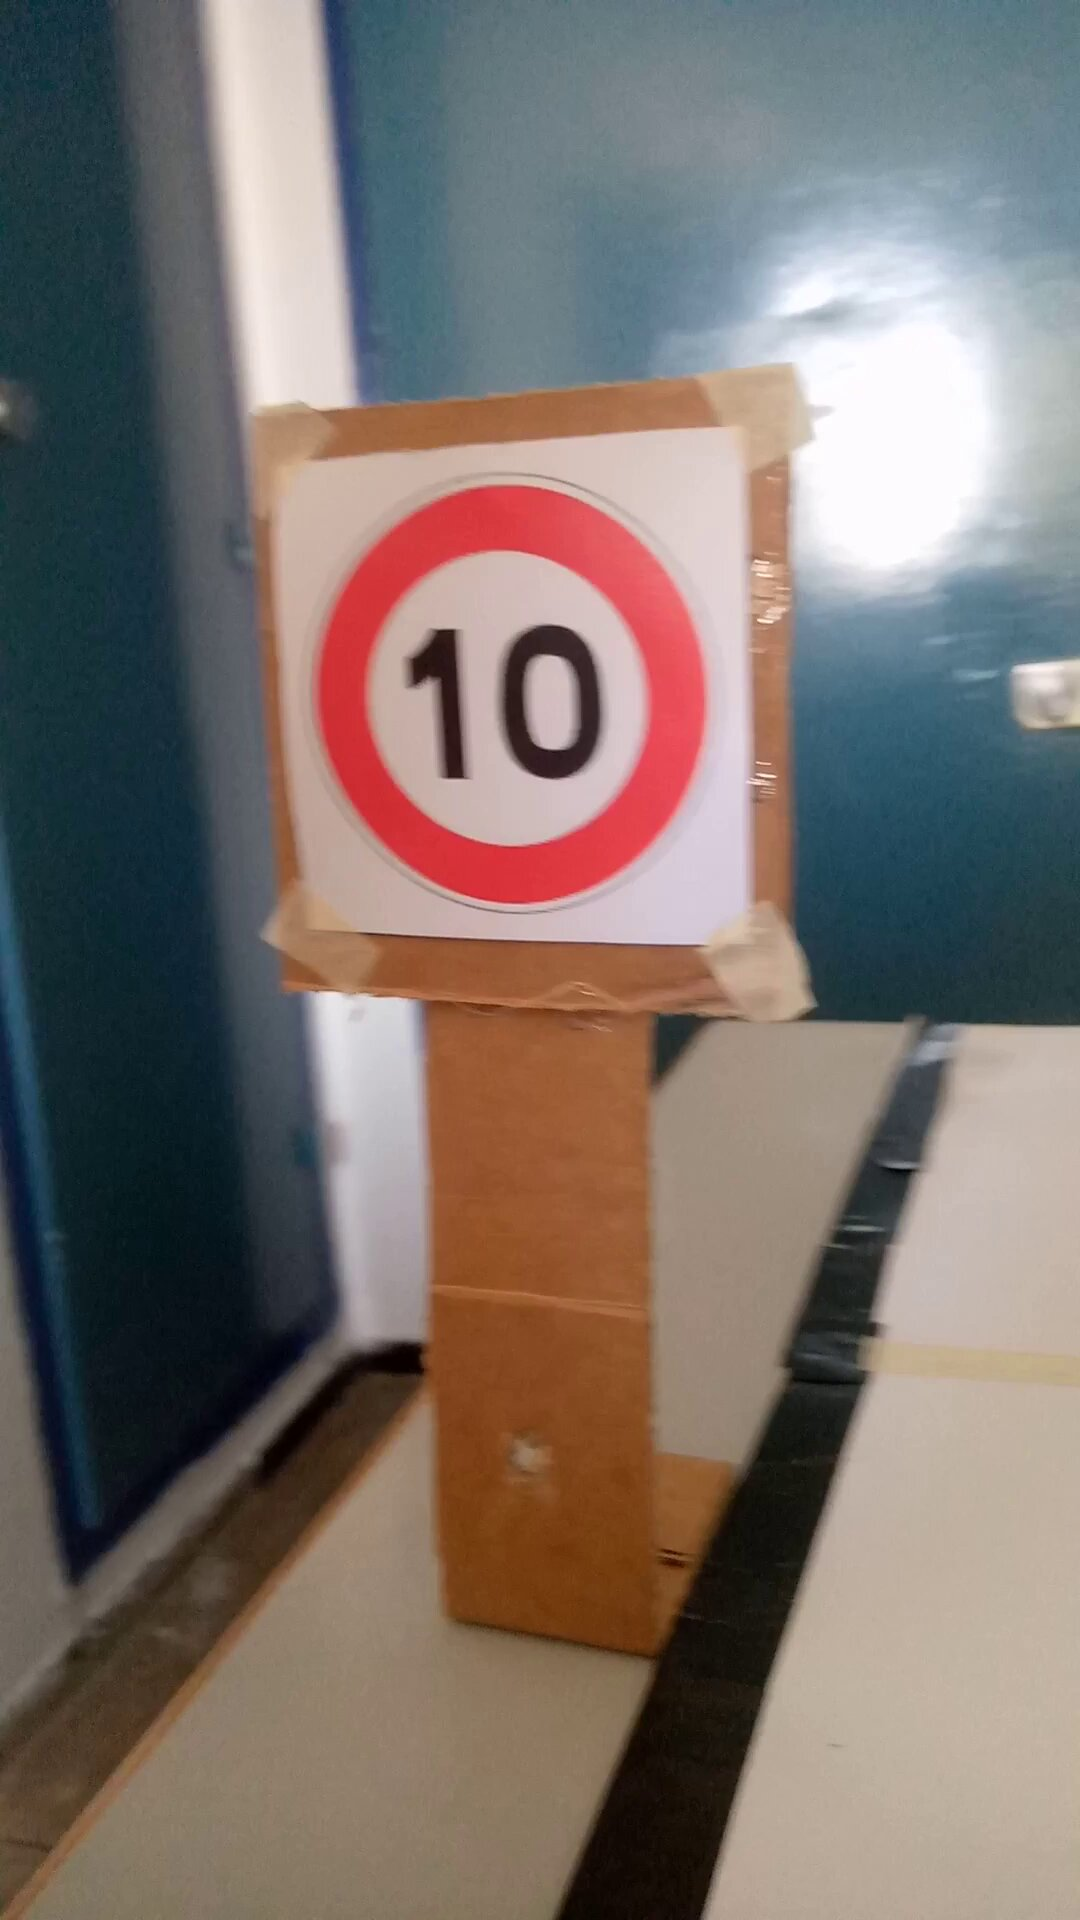panel011: (255, 443, 778, 963)
